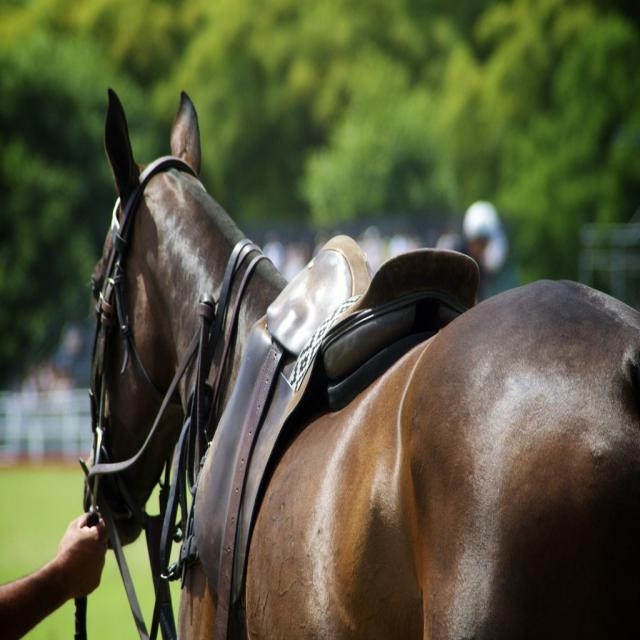Horse: (75, 87, 640, 639)
